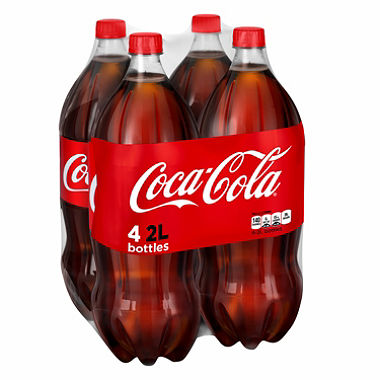coke: (67, 15, 308, 364)
